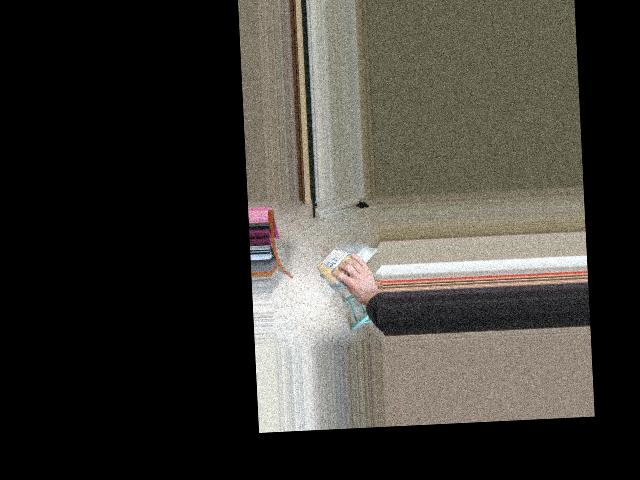cheese: (317, 244, 379, 280)
